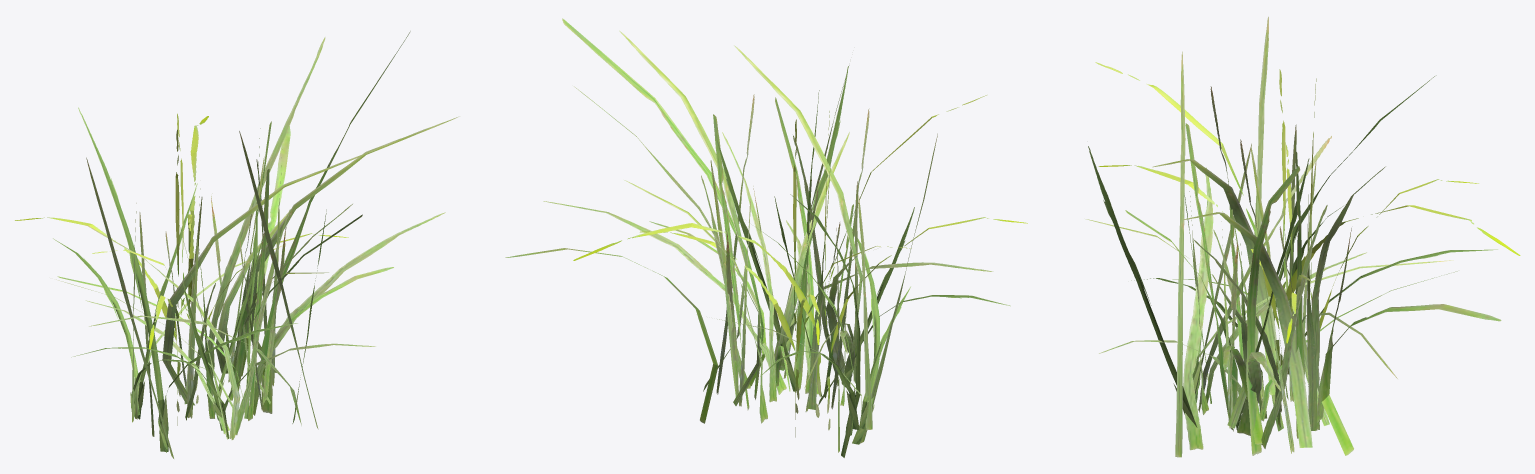
Rendered from SM_Grass2.fbx.
The picture shows the model from 3 angles, left to right: view 1: azimuth 30°, elevation 25°; view 2: azimuth 150°, elevation 25°; view 3: azimuth 270°, elevation 25°; orthographic projection. The views are drawn at different scales.
Visible parts, largest first — view 1: SM_Grass2; view 2: SM_Grass2; view 3: SM_Grass2.
Boxes of the visible parts, bbox=[...] form: SM_Grass2: bbox=[15, 31, 459, 458]; SM_Grass2: bbox=[505, 18, 1027, 457]; SM_Grass2: bbox=[1085, 16, 1520, 457].
Bounding box in the file's own units: 23.08 × 18.59 × 18.24.
1 material, 1 textured.
